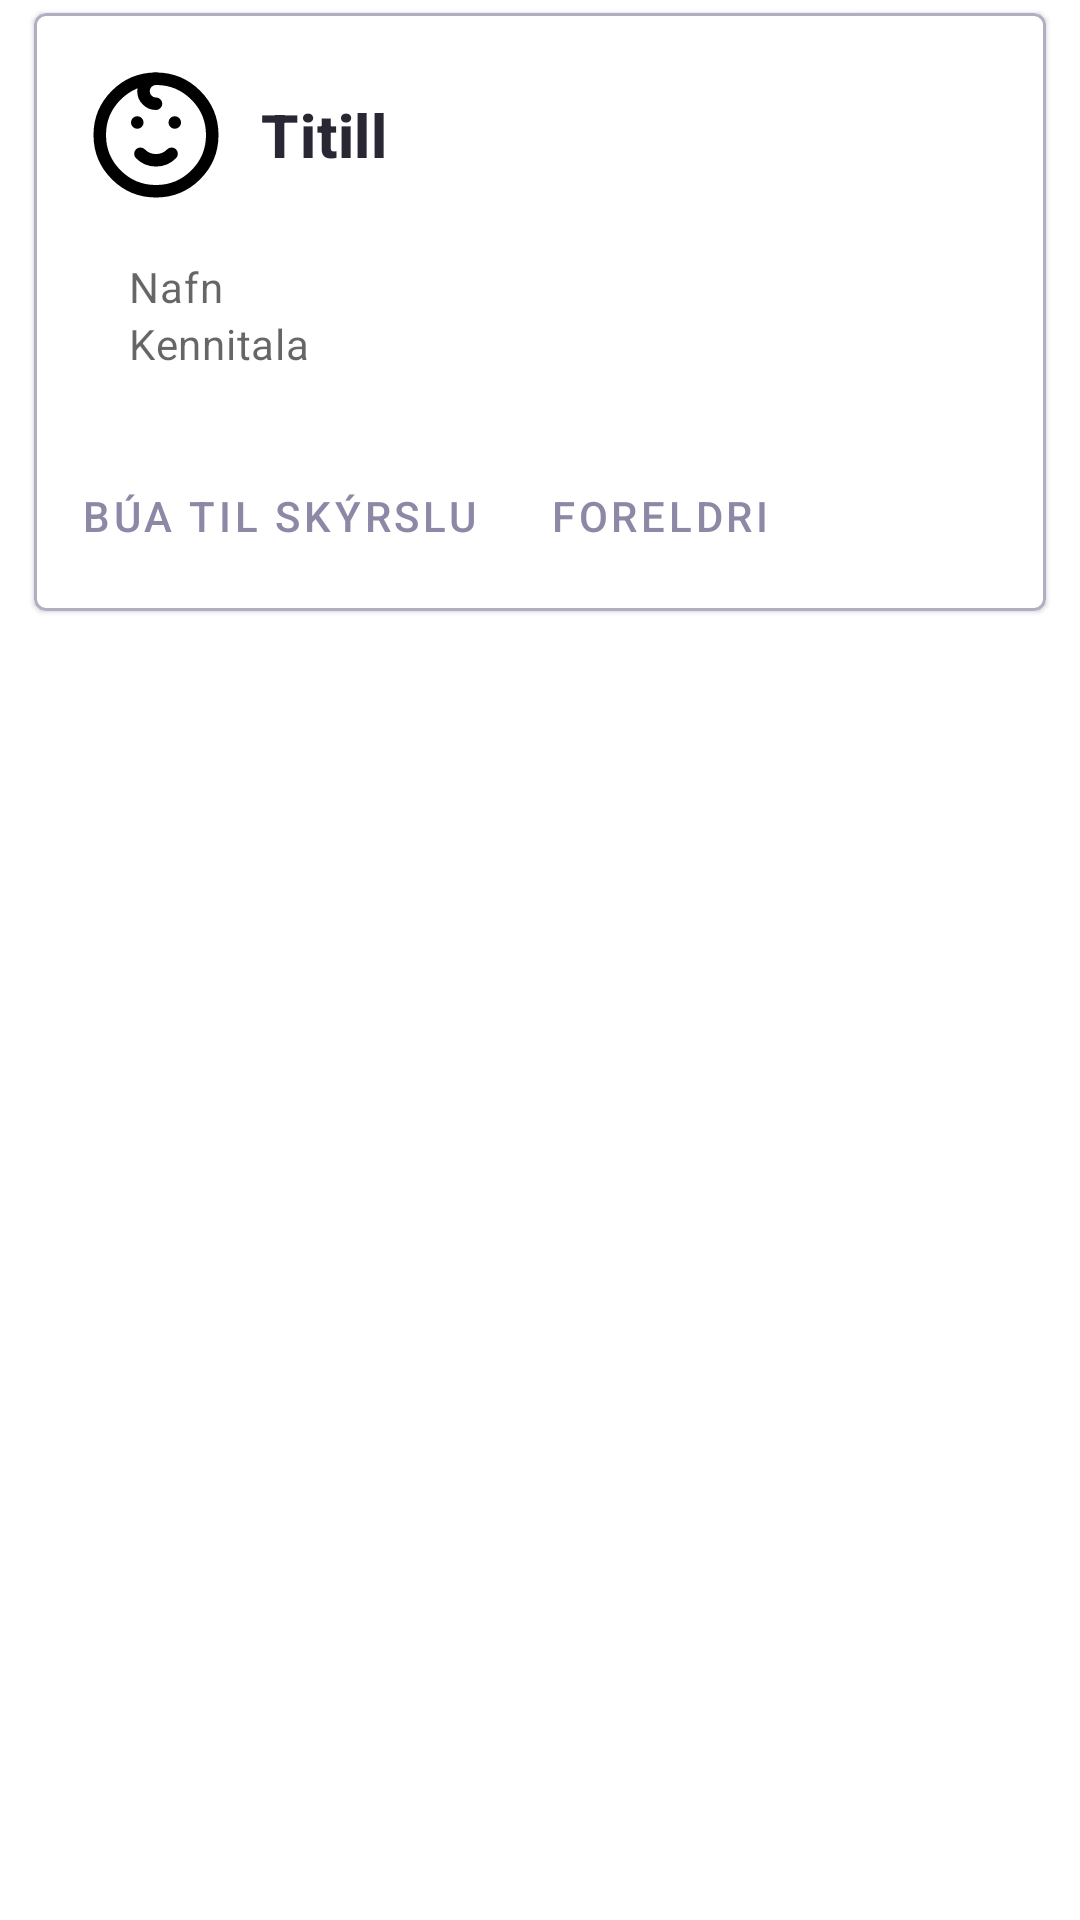

Where icons sit on this 1080 x 1920 app screen, as (x1, y1, x2, y2):
Baby Icon: (93, 72, 219, 198)
